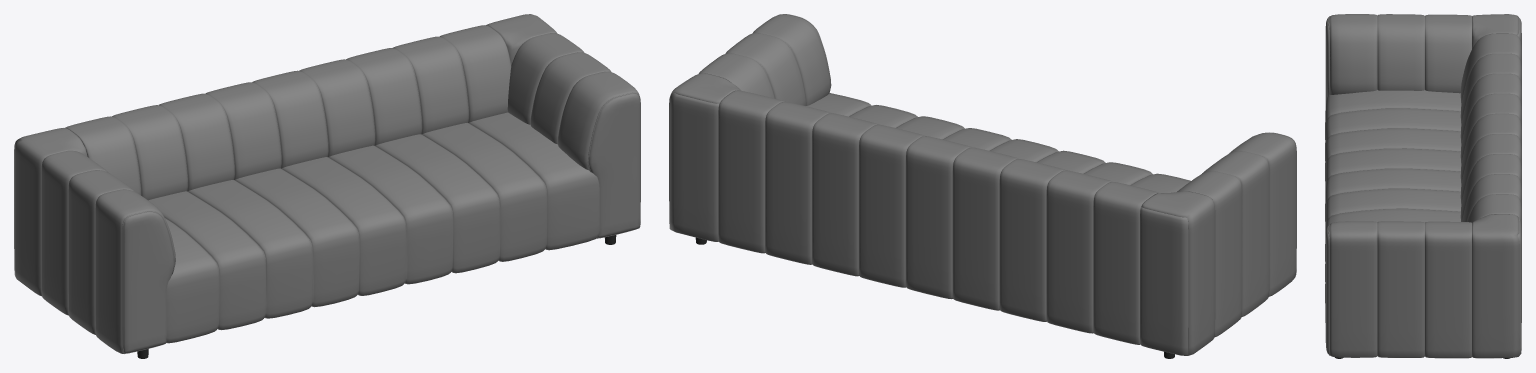
The model's file is Sofa Bellagio.fbx.
3 views of the same model, side by side, from view 1: azimuth 30°, elevation 25°; view 2: azimuth 150°, elevation 25°; view 3: azimuth 270°, elevation 25° (orthographic). The views are drawn at different scales.
Parts seen in each view (by area): view 1: Group001; view 2: Group001; view 3: Group001.
Part boxes in pixels (left/top/right/bottom): Group001: left=14, top=14, right=640, bottom=358; Group001: left=669, top=14, right=1296, bottom=358; Group001: left=1325, top=14, right=1521, bottom=358.
Bounding box in the file's own units: 242 × 67.39 × 89.96.
